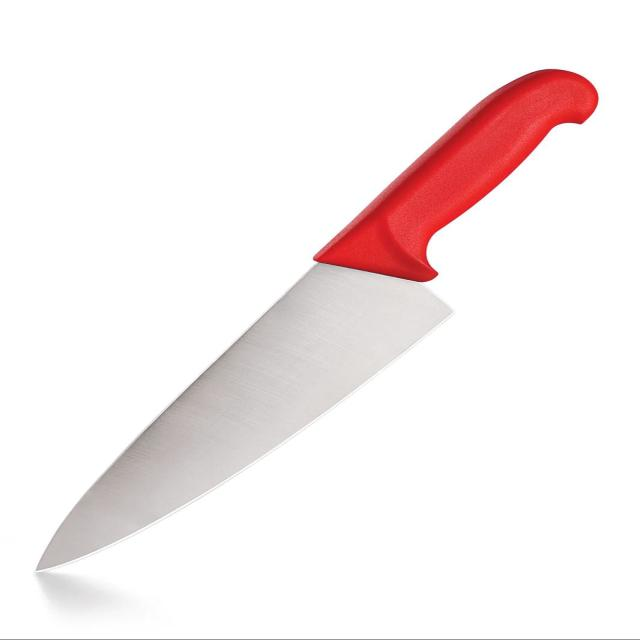Knife: (8, 55, 605, 582)
